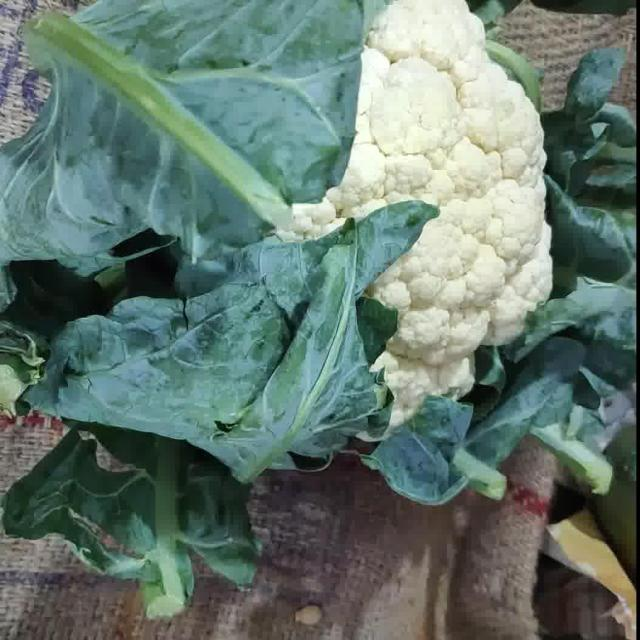Cauliflower: (287, 0, 550, 427)
